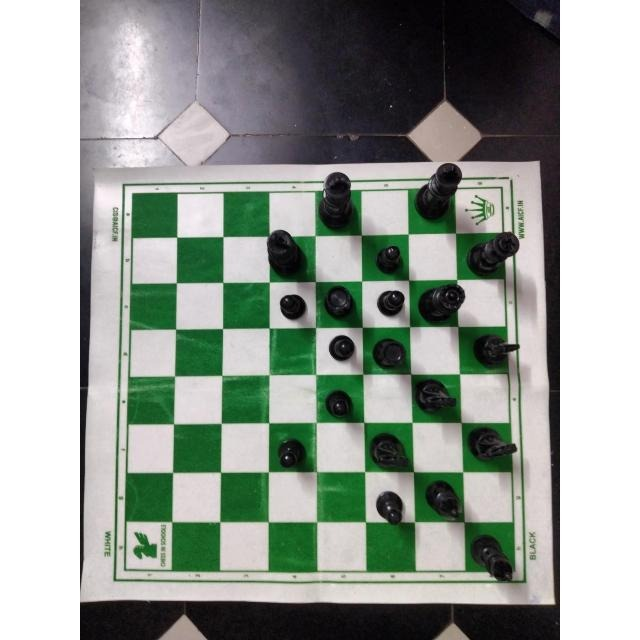black-bishop: (469, 532, 518, 588), (423, 477, 467, 525)
black-king: (412, 162, 464, 227), (314, 170, 361, 234), (464, 231, 520, 283), (263, 226, 311, 279)
black-knight: (466, 423, 518, 467), (364, 430, 415, 472), (412, 376, 460, 417), (470, 332, 520, 371)
black-pawn: (376, 489, 408, 531), (322, 387, 358, 422), (373, 287, 411, 319), (275, 436, 311, 469), (371, 242, 406, 275), (278, 288, 310, 323), (325, 335, 358, 367)
black-queen: (416, 282, 467, 326)
black-rook: (319, 284, 359, 322), (370, 335, 408, 371)
